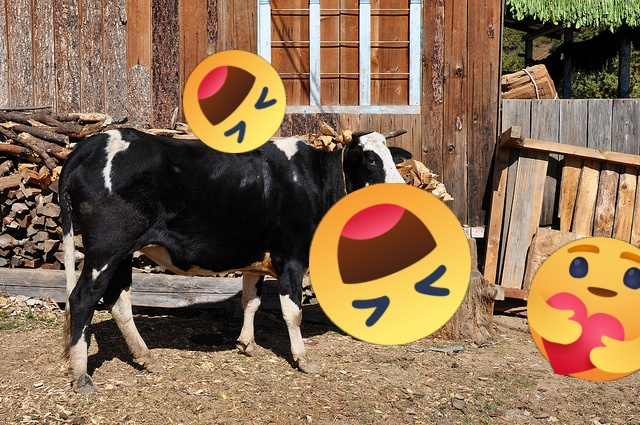care: (527, 237, 640, 381)
haha: (309, 183, 471, 345), (183, 50, 286, 153)
